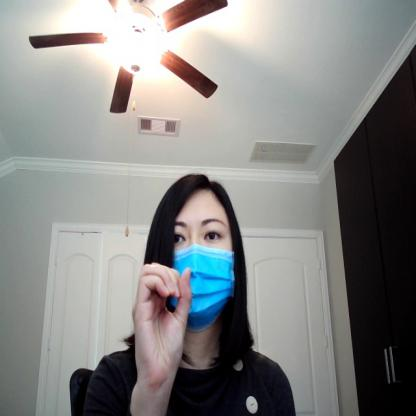zero: (130, 258, 196, 374)
